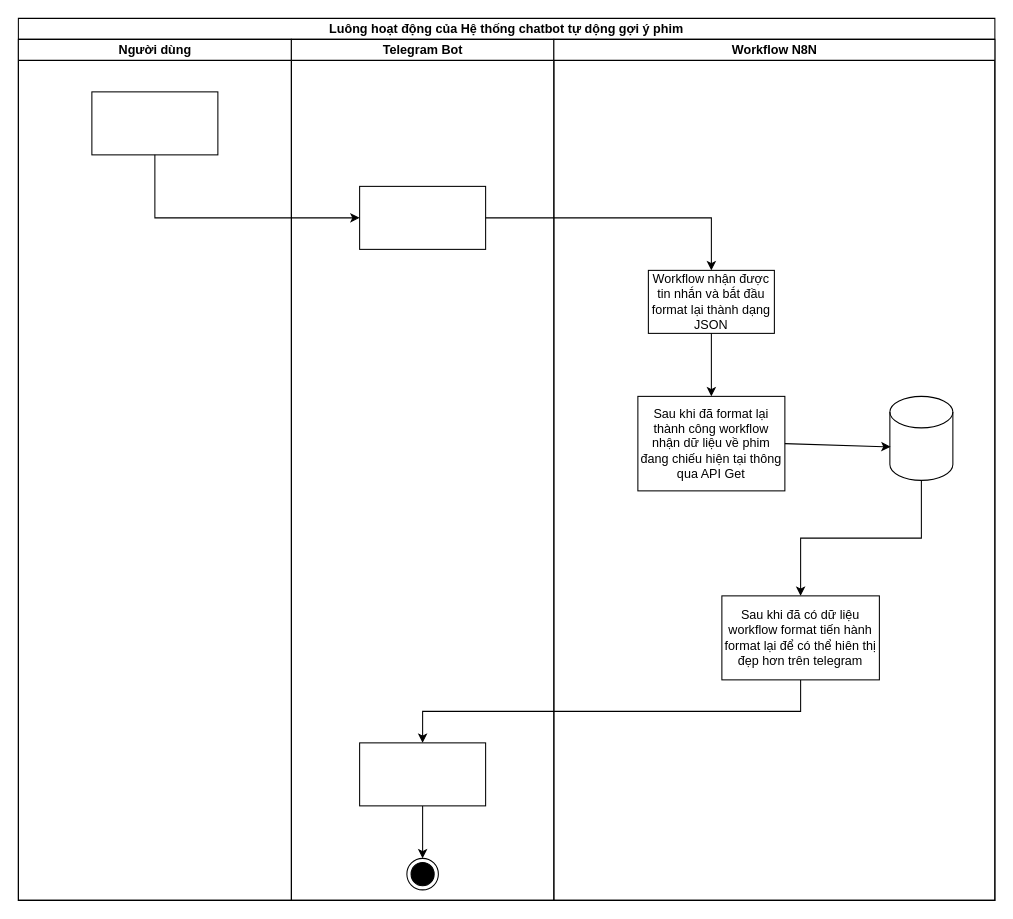
The diagram is 1013 pixels wide and 919 high, and some of its shapes have lost their labels. Each missing label, with the centre of its shape:
Người dùng nhập vào chatbot yêu cầu gợi ý phim: point (154, 123)
TDBM: point (921, 437)
Telegram Bot nhận yêu cầu và gửi tới workflow: point (422, 217)
Telegram hiển thị kết quả gơi ý phim cho người dùng: point (422, 774)
